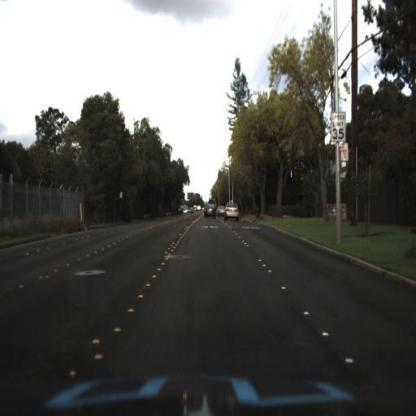car: (223, 200, 243, 223), (202, 200, 218, 223)
